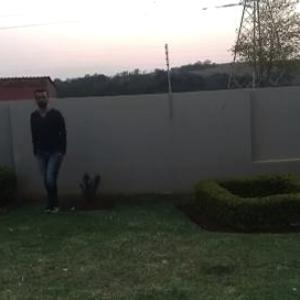follow: (31, 85, 88, 214)
